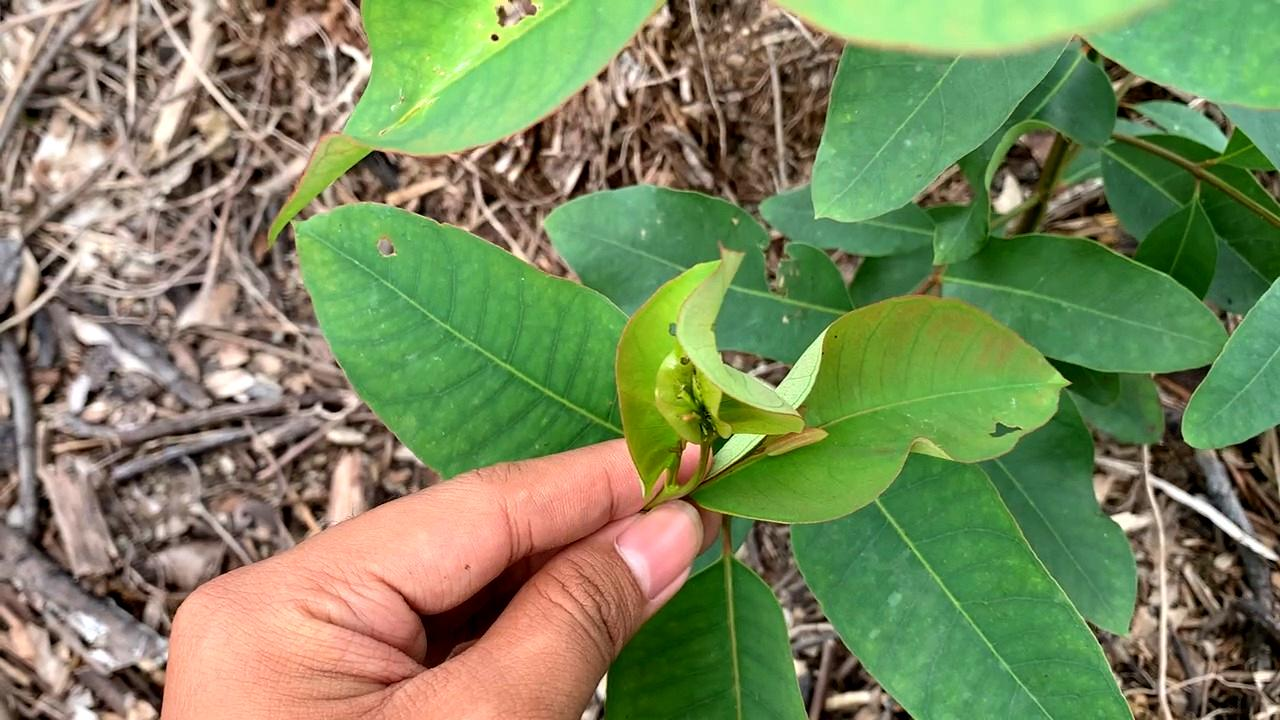Leaf Roller - Leaf: (610, 229, 830, 508)
